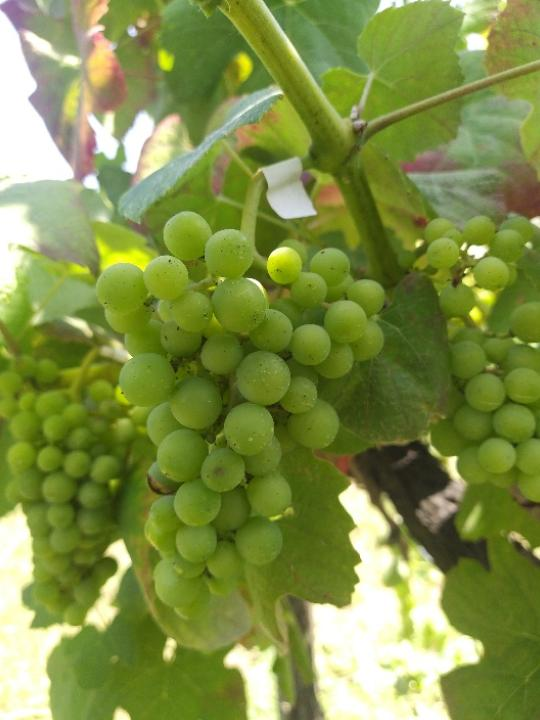grape: (88, 206, 385, 621), (0, 354, 148, 628)
